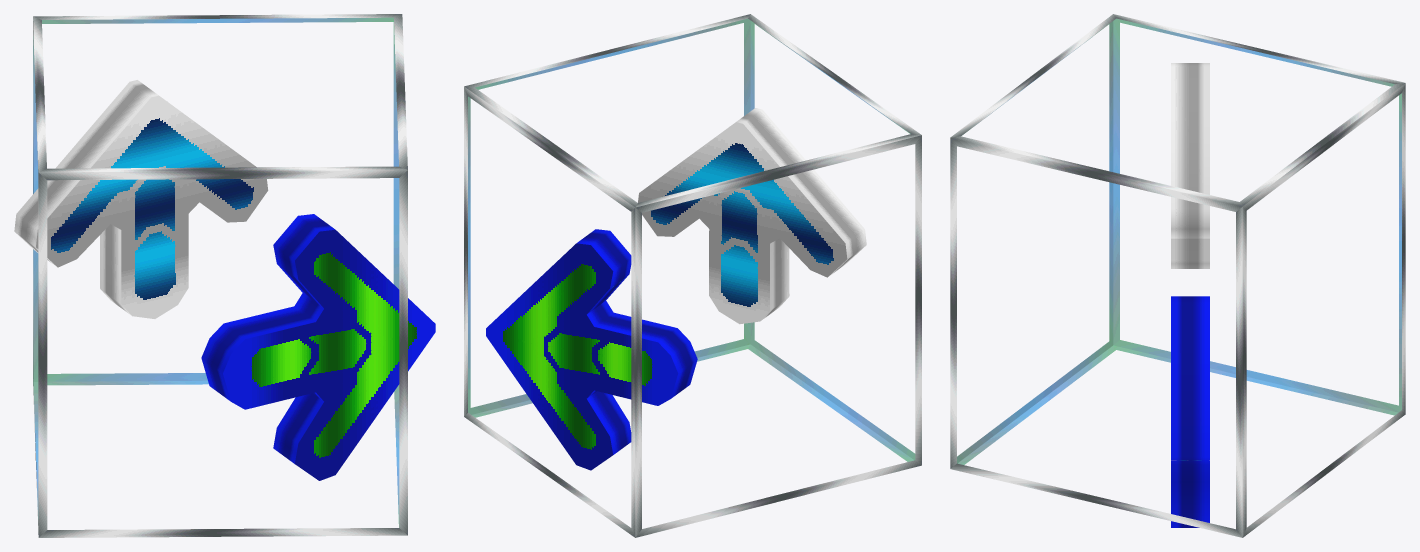
The model's file is ps2_save-icons_dancingstagesupernova2-editlibrary.glb.
3 views of the same model, side by side, from view 1: azimuth 30°, elevation 25°; view 2: azimuth 150°, elevation 25°; view 3: azimuth 270°, elevation 25° (orthographic). The views are drawn at different scales.
Parts seen in each view (by area): view 1: output.ico; view 2: output.ico; view 3: output.ico.
Boxes of the visible parts, x1,y1,x2,y2 form: output.ico: (14, 14, 435, 537); output.ico: (464, 14, 921, 537); output.ico: (950, 14, 1405, 537).
Size of the model in its own units: 4.52 by 4.21 by 4.52.
1 material, 1 textured.
